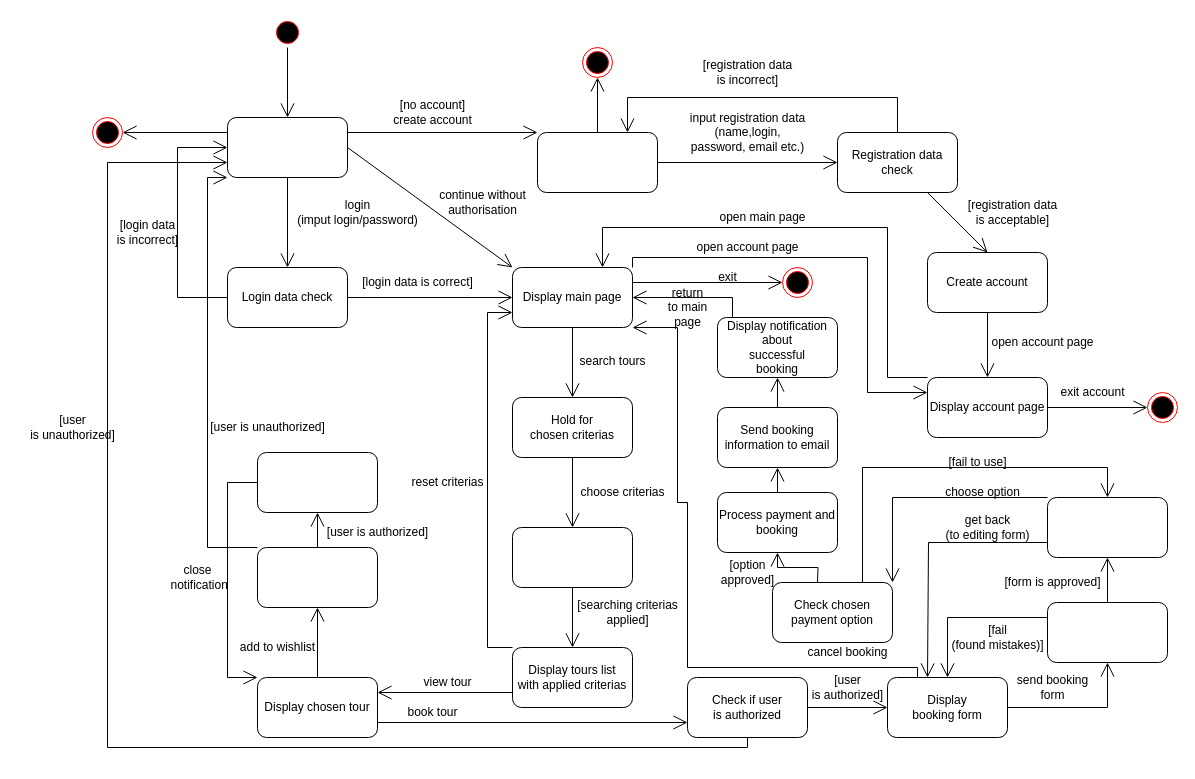
The diagram is 1195 pixels wide and 779 high, and some of its shapes have lost their labels. Here are the shapes that lost their labels. From the top down, the centre of each, then its label:
the point at 287,147: Hold for authorisation
the point at 597,162: Hold for registration
the point at 317,482: Display wishlist notification
the point at 1107,527: Hold for choosing payment option
the point at 317,577: Process the request
the point at 572,557: Processing and applying criterias
the point at 1107,632: Check booking form
